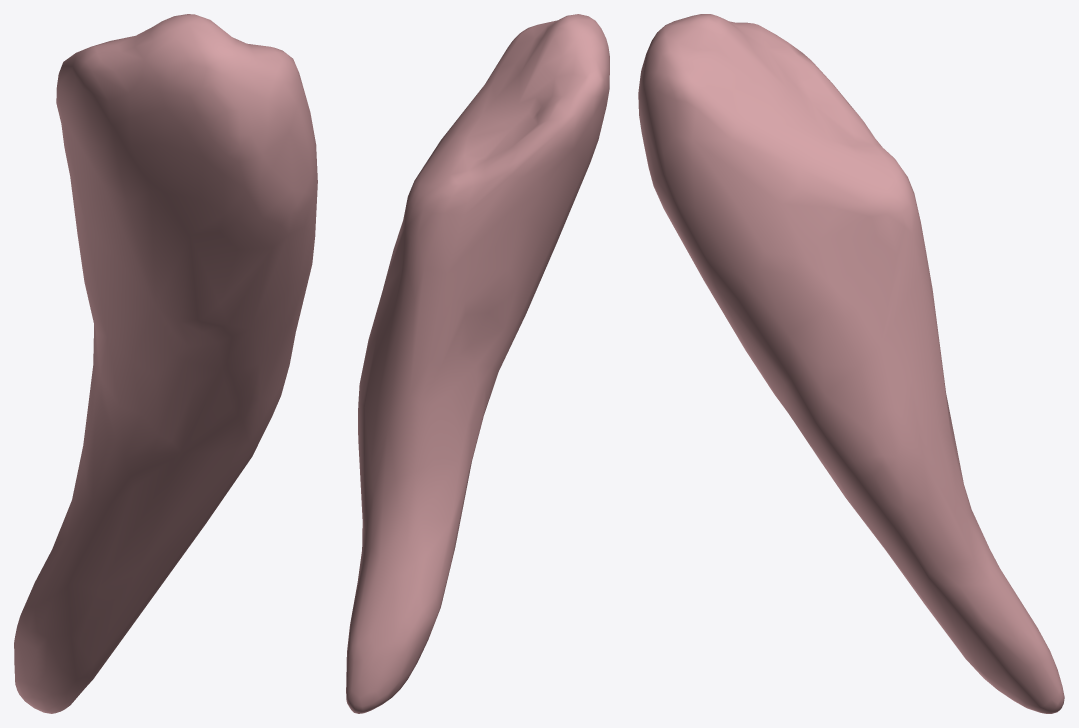
File: fma55686_fj1274.glb
3 views of the same model, side by side, from view 1: azimuth 30°, elevation 25°; view 2: azimuth 150°, elevation 25°; view 3: azimuth 270°, elevation 25° (orthographic). The views are drawn at different scales.
Parts seen in each view (by area): view 1: FMA55686_FJ1274; view 2: FMA55686_FJ1274; view 3: FMA55686_FJ1274.
Part boxes in pixels (x1,y1,x2,y2): FMA55686_FJ1274: (14, 14, 317, 713); FMA55686_FJ1274: (346, 14, 609, 713); FMA55686_FJ1274: (638, 14, 1064, 713).
Bounding box in the file's own units: 0.00862 × 0.0268 × 0.0156.
